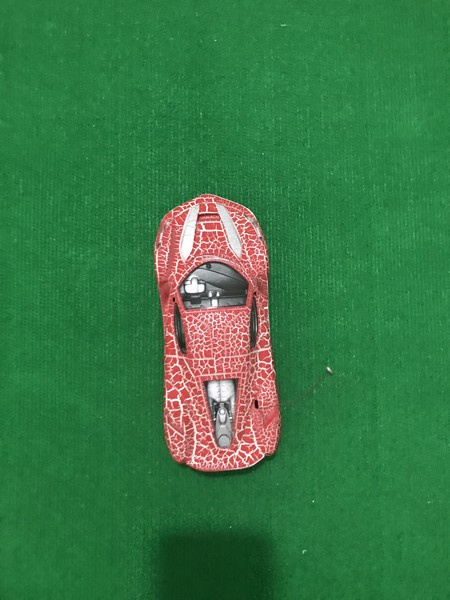RC: (151, 191, 284, 473)
